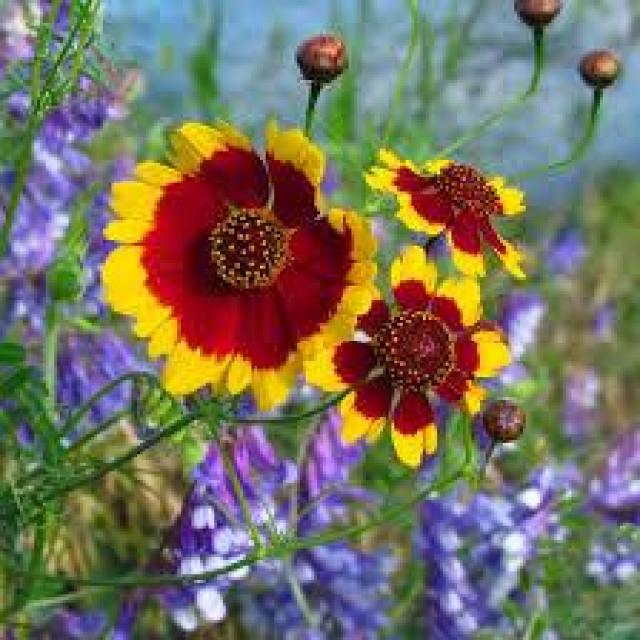organic waste: (97, 127, 380, 393), (302, 249, 502, 460), (368, 144, 548, 290)
